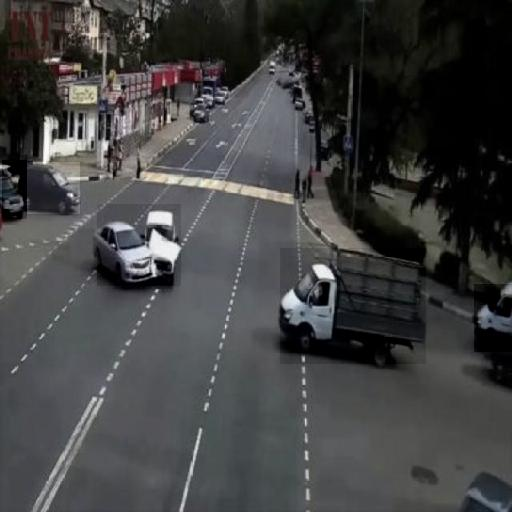小汽车: (280, 248, 426, 364), (22, 162, 80, 214), (474, 284, 512, 352), (2, 160, 27, 219)
小汽车撞小汽车: (97, 204, 181, 286)
